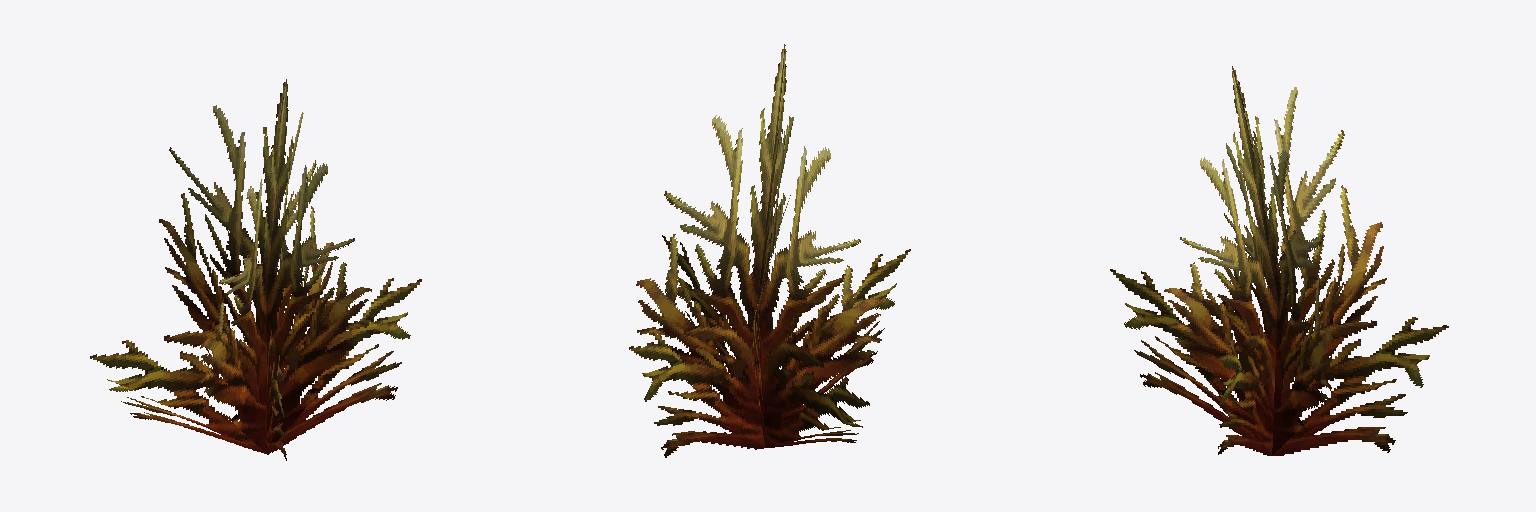
3 renders of one model, left to right at view 1: azimuth 30°, elevation 25°; view 2: azimuth 150°, elevation 25°; view 3: azimuth 270°, elevation 25°, orthographic.
Visible parts, largest first — view 1: DurotarBush01; view 2: DurotarBush01; view 3: DurotarBush01.
Boxes of the visible parts, box(x1,y1,x2,y2) form: DurotarBush01: box(90, 79, 421, 460); DurotarBush01: box(629, 44, 910, 457); DurotarBush01: box(1110, 66, 1448, 455).
Bounding box in the file's own units: 2.85 × 3.42 × 3.1.
1 materials, 1 textured.